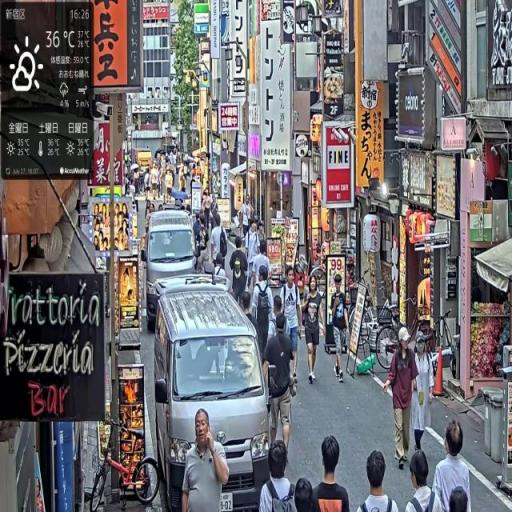person: (383, 327, 420, 471), (182, 408, 231, 512), (264, 310, 297, 464), (410, 327, 440, 460), (431, 418, 473, 512), (280, 264, 304, 389), (314, 435, 352, 512), (302, 270, 326, 388), (250, 262, 275, 374), (259, 442, 297, 512), (327, 273, 350, 383), (361, 450, 401, 512), (406, 449, 445, 512), (229, 235, 250, 310), (243, 219, 264, 292), (210, 213, 230, 280), (253, 241, 274, 302), (193, 215, 210, 277), (240, 194, 255, 241)
